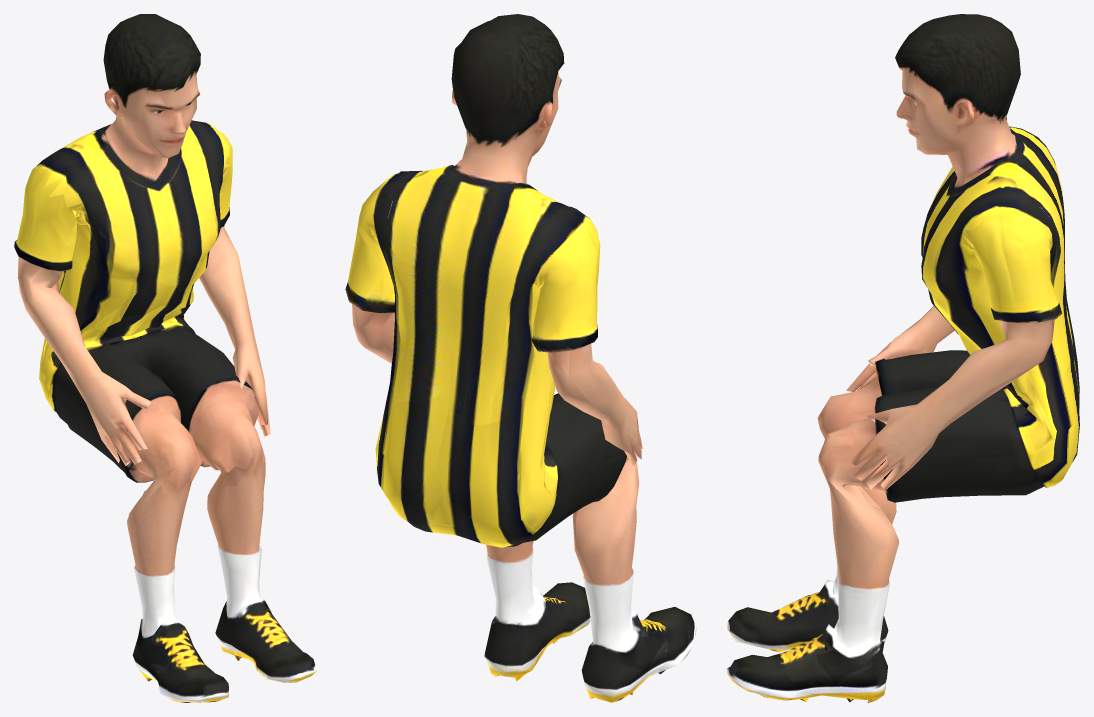
The model's file is fan_teen_sit.glb.
3 views of the same model, side by side, from view 1: azimuth 30°, elevation 25°; view 2: azimuth 150°, elevation 25°; view 3: azimuth 270°, elevation 25° (orthographic). The views are drawn at different scales.
Visible parts, largest first — view 1: char1; view 2: char1; view 3: char1.
Boxes of the visible parts, x1,y1,x2,y2 form: char1: (14,14,316,702); char1: (345,14,696,702); char1: (725,14,1079,702).
Size of the model in its own units: 0.4732 by 1.32 by 0.6442.
1 material, 1 textured.
